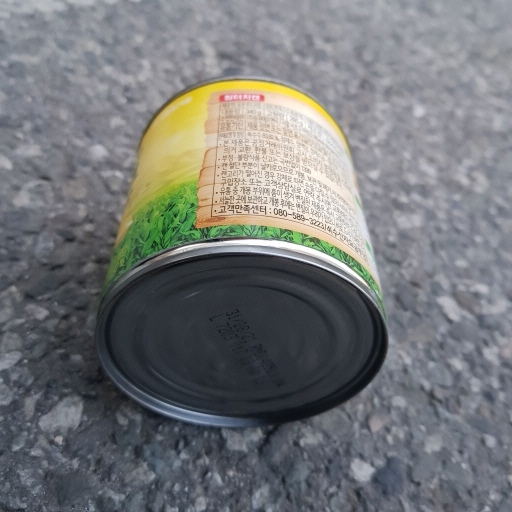Metal_1: (92, 72, 390, 431)
